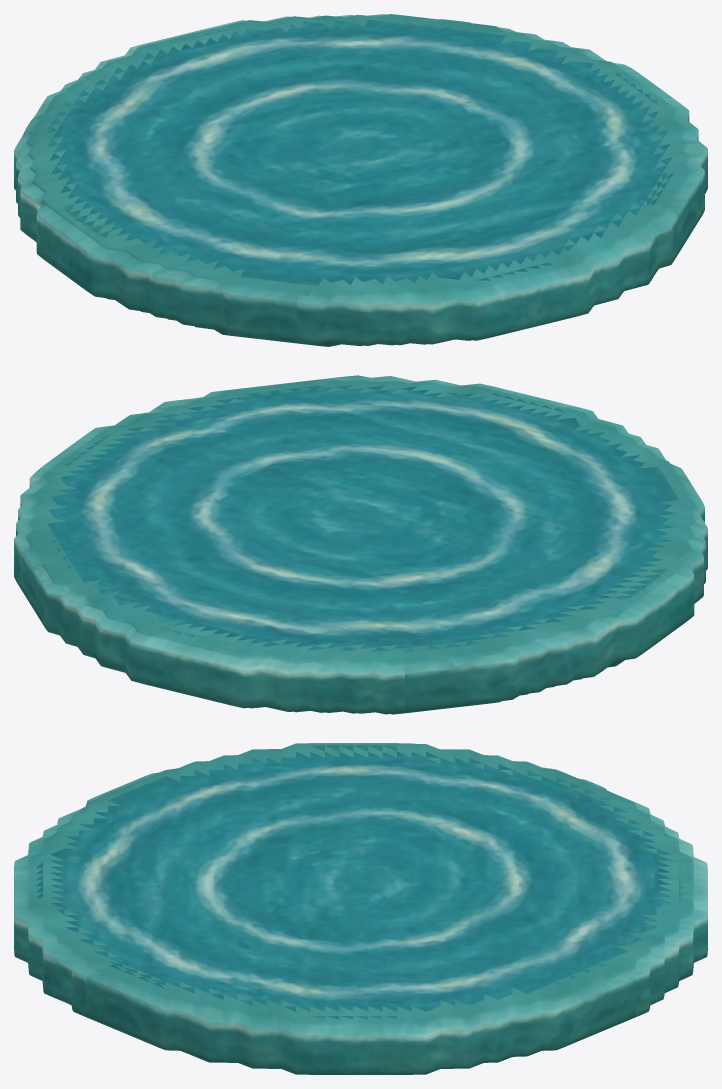
File: water.glb
3 views of the same model, one above another, from view 1: azimuth 30°, elevation 25°; view 2: azimuth 150°, elevation 25°; view 3: azimuth 270°, elevation 25° (orthographic).
Bounding box in the file's own units: 10.74 × 1 × 10.84.
1 material, 1 textured.
